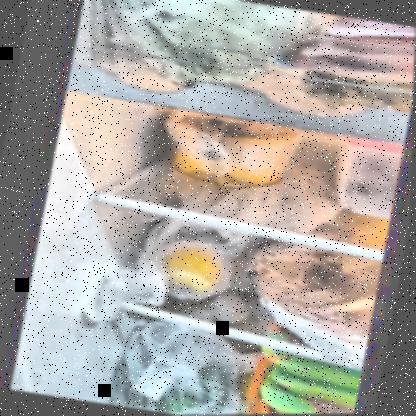lemon: (163, 241, 232, 300)
